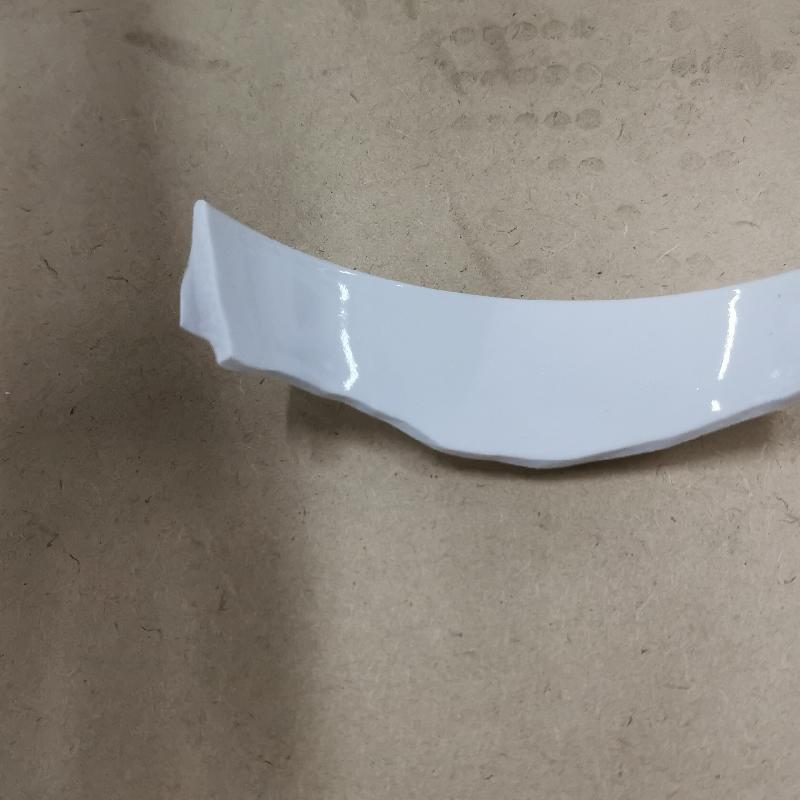ceram: (165, 196, 800, 472)
